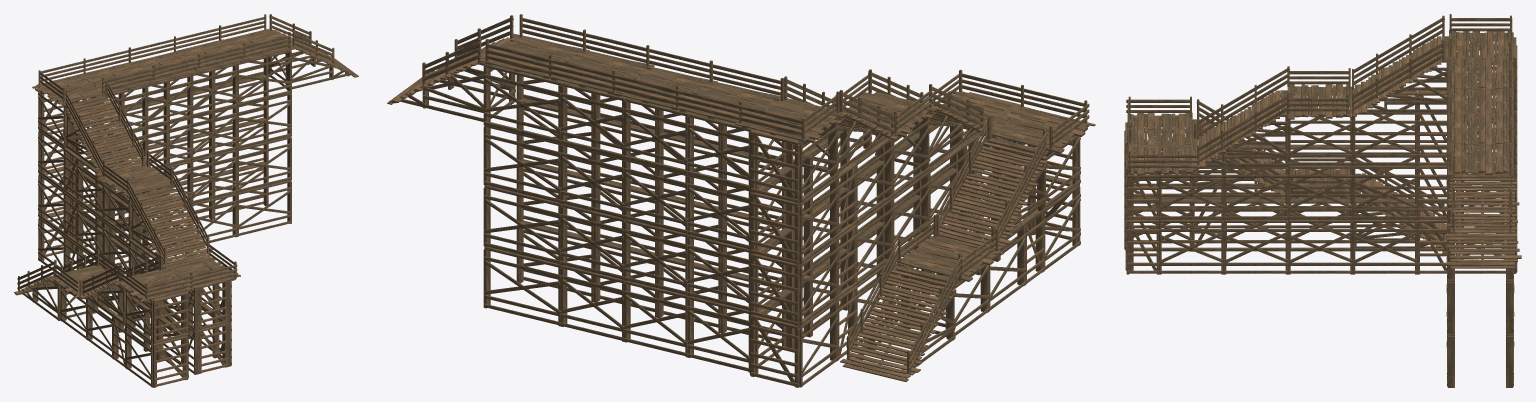
File: SM_Construction3.fbx
3 views of the same model, side by side, from view 1: azimuth 30°, elevation 25°; view 2: azimuth 150°, elevation 25°; view 3: azimuth 270°, elevation 25° (orthographic). The views are drawn at different scales.
Visible parts, largest first — view 1: SM_Construction3_LOD0; view 2: SM_Construction3_LOD0; view 3: SM_Construction3_LOD0.
Boxes of the visible parts, left/top/right/bottom form: SM_Construction3_LOD0: left=14, top=14, right=358, bottom=387; SM_Construction3_LOD0: left=387, top=14, right=1095, bottom=387; SM_Construction3_LOD0: left=1124, top=14, right=1521, bottom=387.
Size of the model in its own units: 3097 by 2461 by 1650.
1 material, 1 textured.
